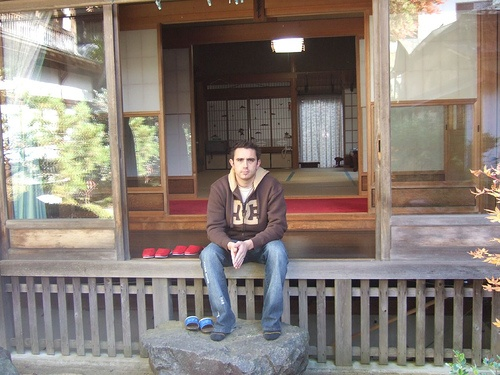head: (228, 141, 262, 181)
person: (198, 140, 289, 343)
